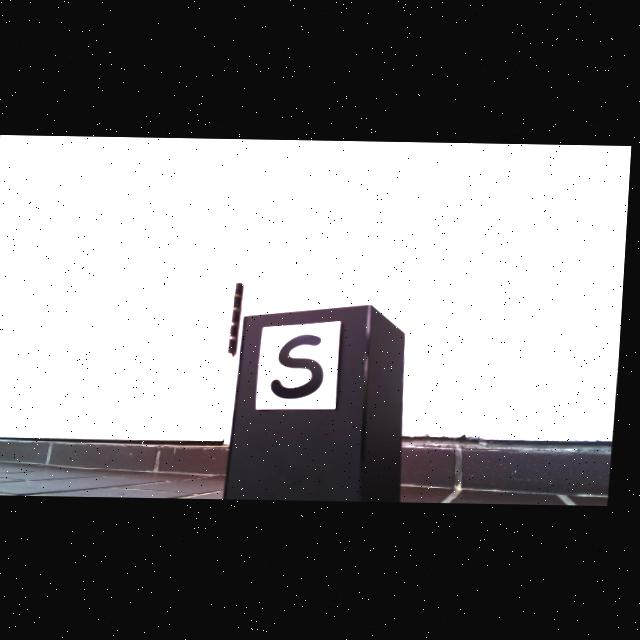S: (275, 335, 328, 399)
